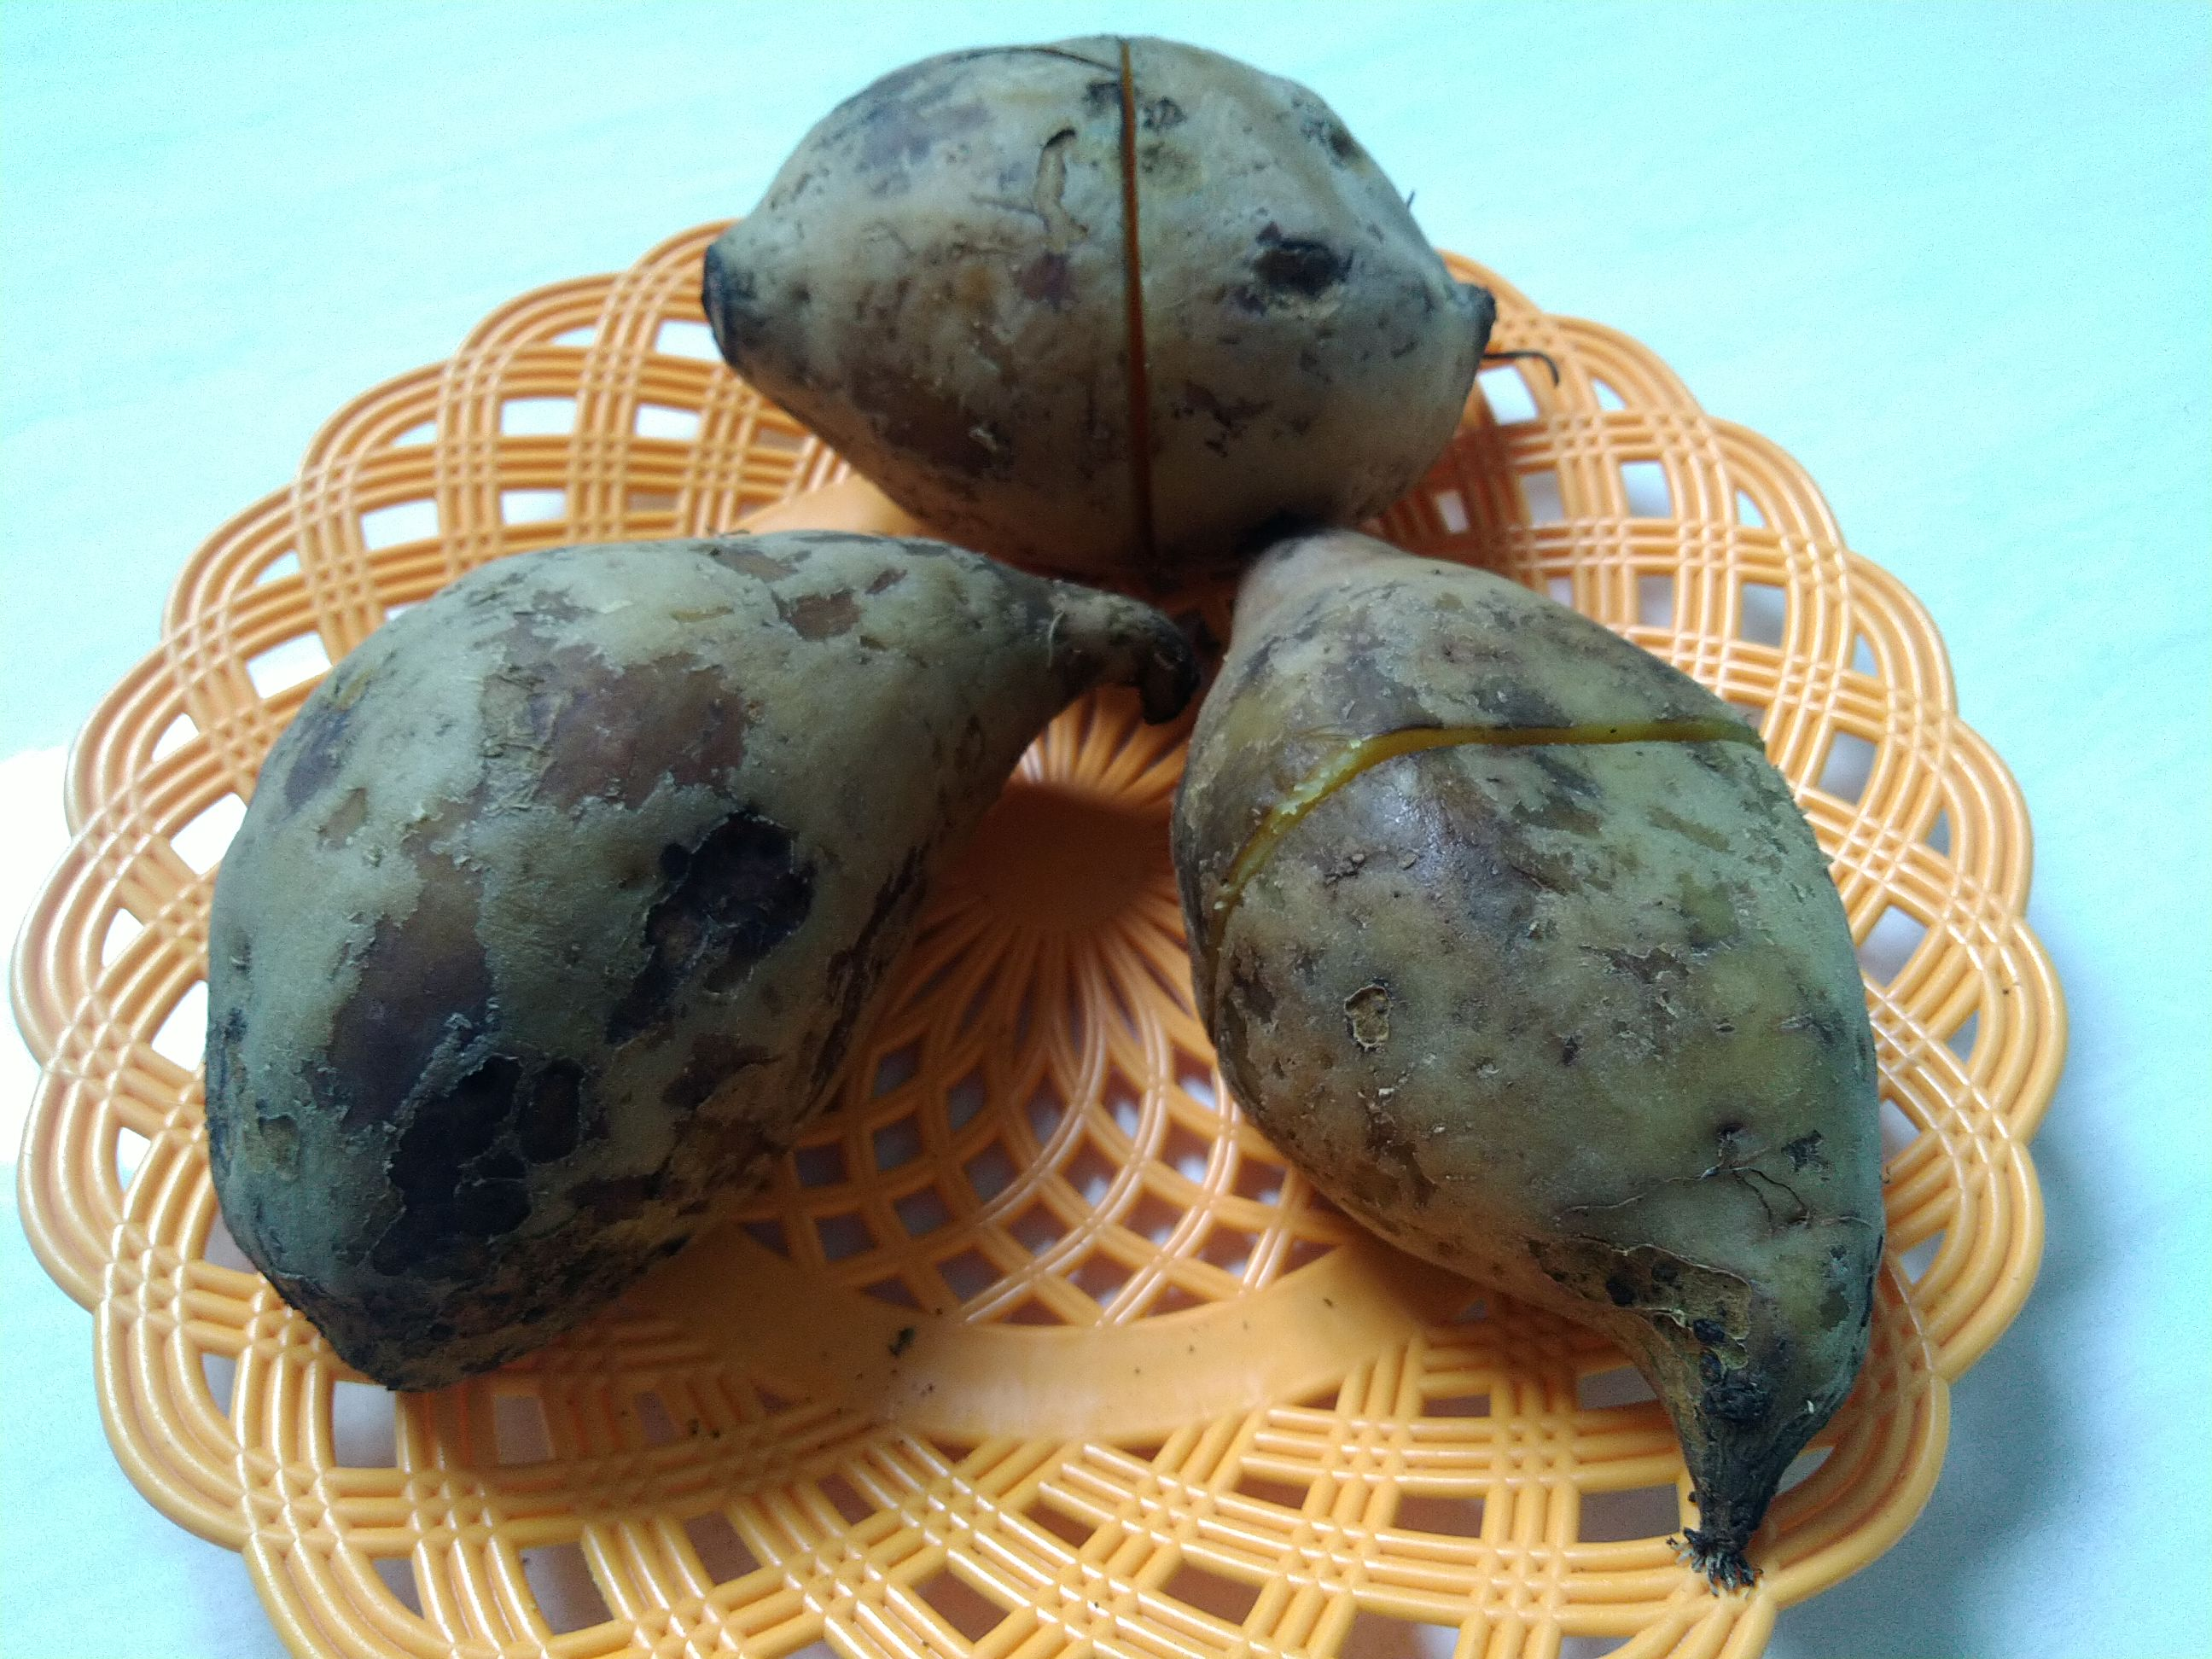ubi kuning: (1146, 521, 1993, 1588), (174, 526, 1193, 1335), (707, 10, 1540, 575)
